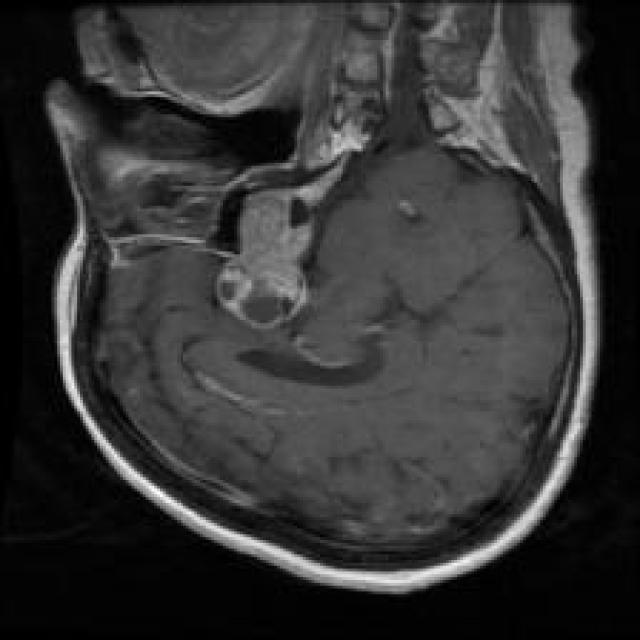pituitary_tumor: (206, 170, 329, 341)
